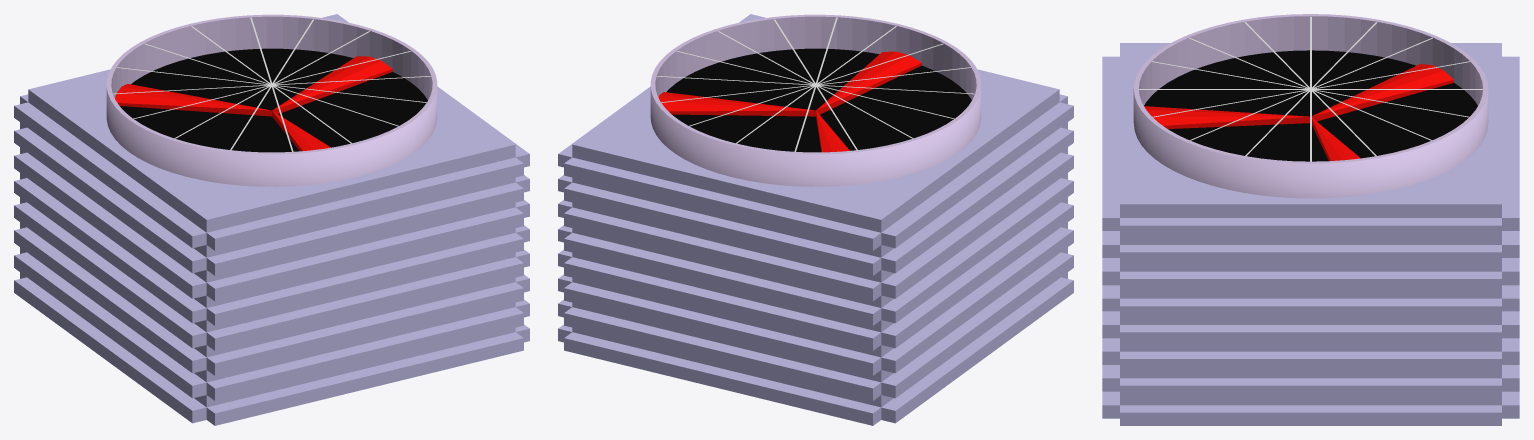
File: KintiniiKattoTuuletinCoolAir.fbx
The picture shows the model from 3 angles, left to right: view 1: azimuth 30°, elevation 25°; view 2: azimuth 150°, elevation 25°; view 3: azimuth 270°, elevation 25°; orthographic projection. The views are drawn at different scales.
Parts seen in each view (by area): view 1: Cube; view 2: Cube; view 3: Cube.
Boxes of the visible parts, x1,y1,x2,y2 form: Cube: (14,14,529,425); Cube: (558,14,1073,425); Cube: (1102,14,1519,425).
Size of the model in its own units: 218 by 144 by 218.
